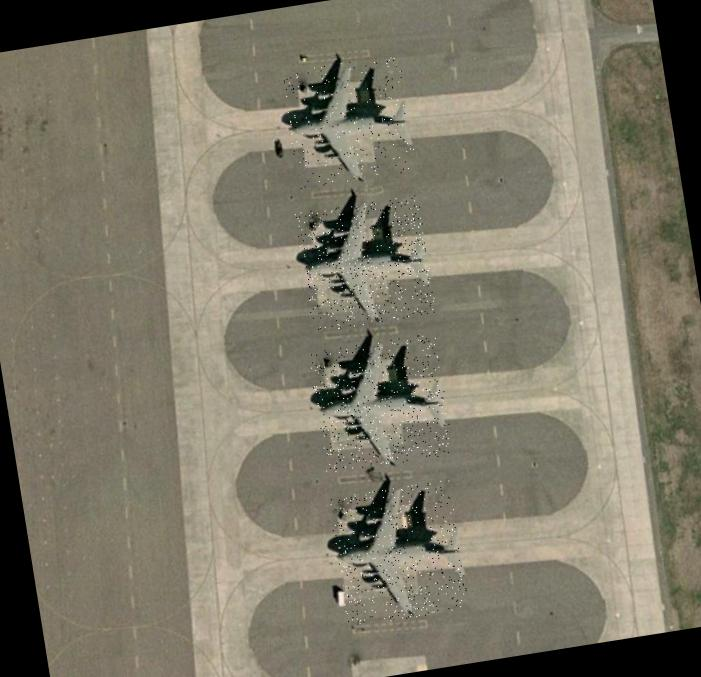A3: (326, 478, 469, 628), (306, 331, 453, 474), (294, 193, 436, 332), (279, 54, 416, 188)
